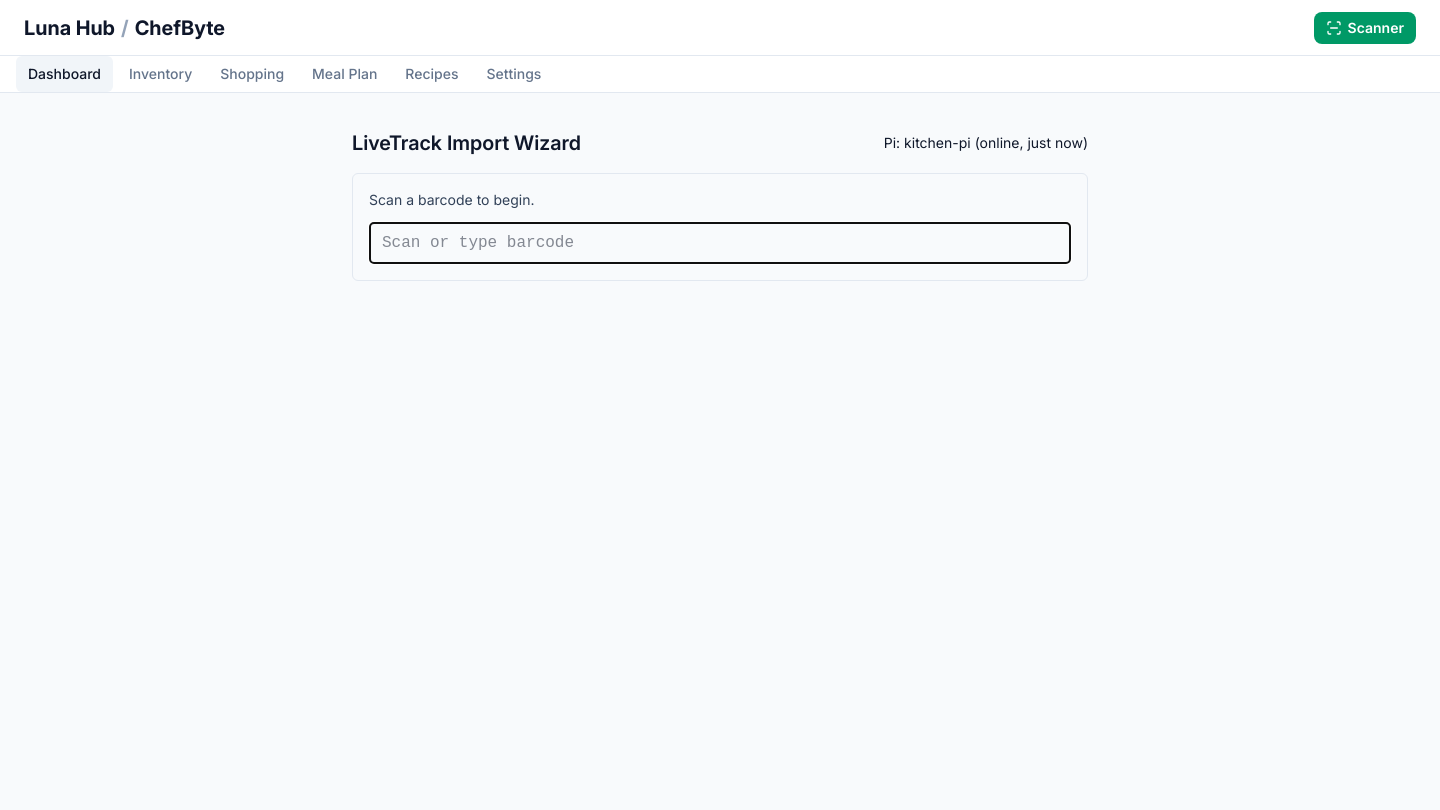
LiveTrackImportPage — OFF-miss is a NORMAL case, not a fatal error › happy path (200 with OFF data) prefills + does NOT show the OFF-miss notice
The image size is (1440, 810).
Expected: the element with test id "livetrack-waiting-barcode" is shown, [352,173,1088,281]
Type "111111111111" into the field with test id "livetrack-barcode-input" at {"x": 720, "y": 243}, box [369,222,1071,264]
Then press Enter
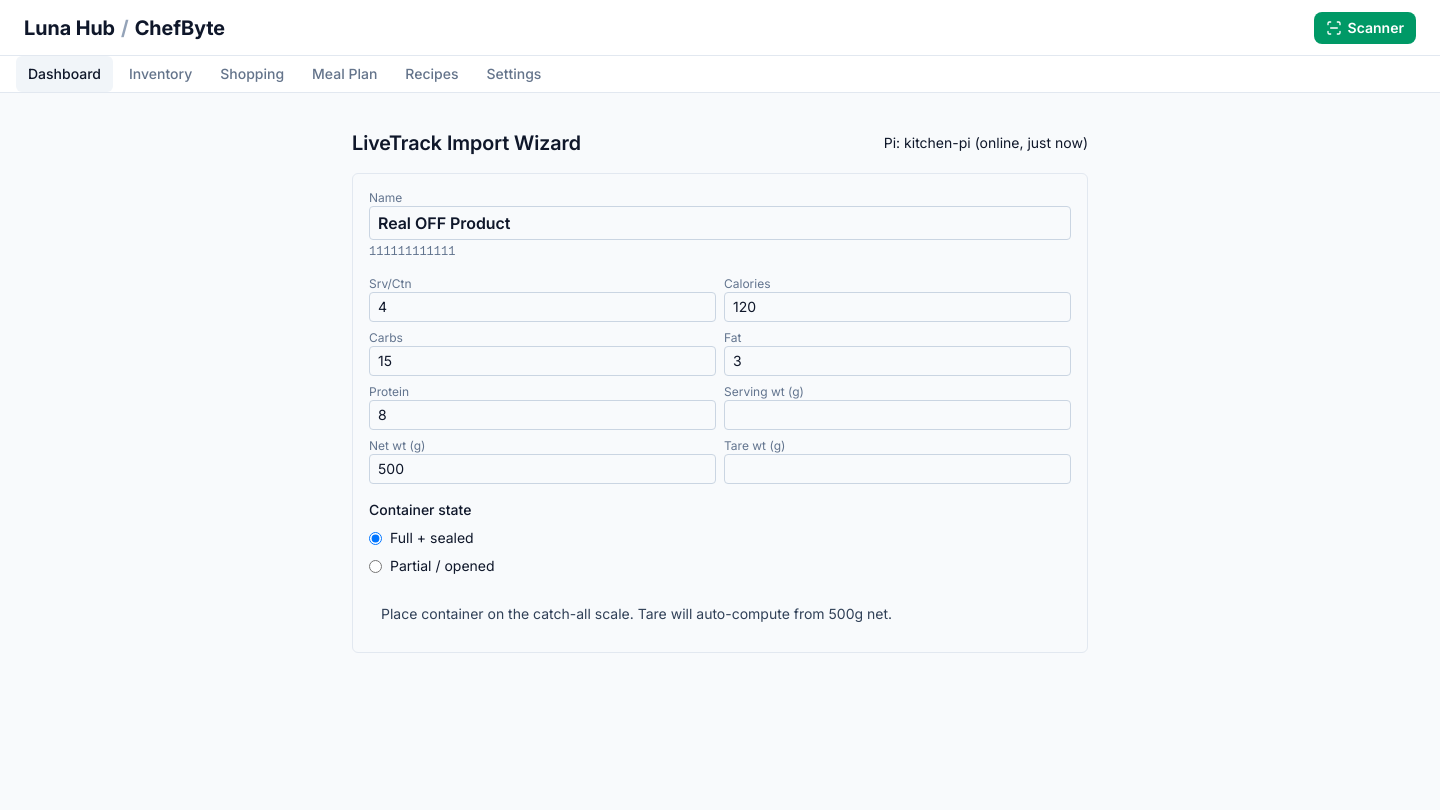
Now the element with test id "livetrack-product-loaded" is shown, box [352,173,1088,653]
Now the field with test id "livetrack-field-name" holds "Real OFF Product", box [369,206,1071,240]
Now the field with test id "livetrack-field-name" is enabled, box [369,206,1071,240]
